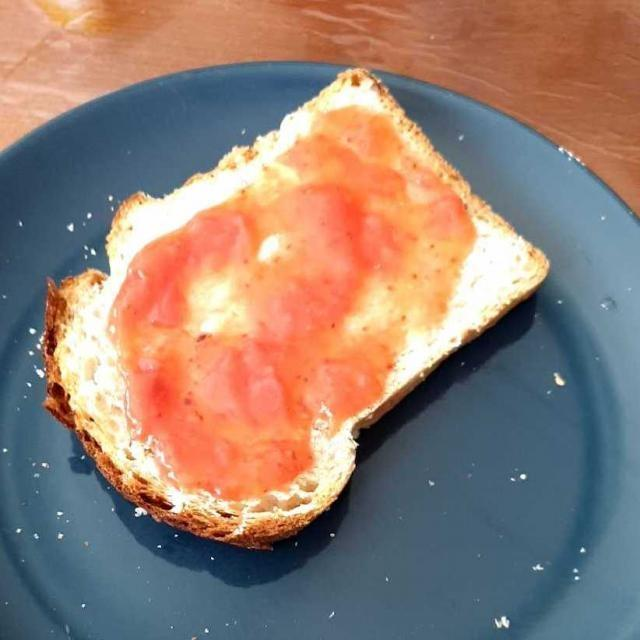bread: (46, 81, 542, 540)
jam: (126, 99, 486, 509)
